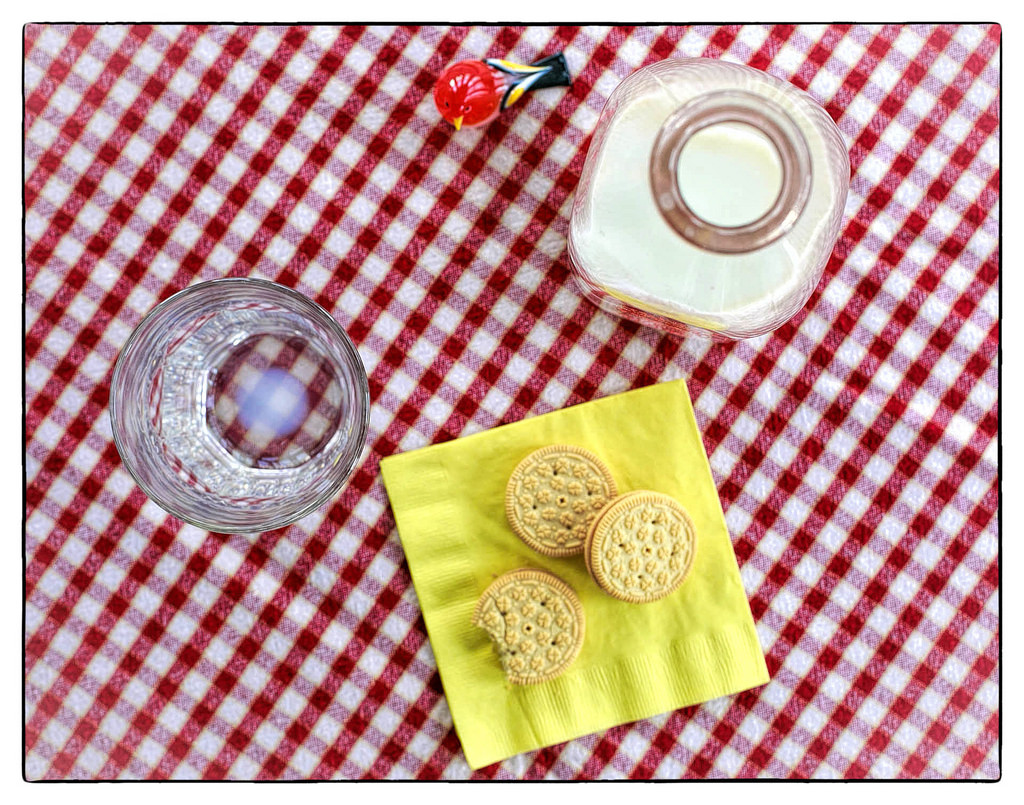glass of water: (104, 281, 360, 532)
